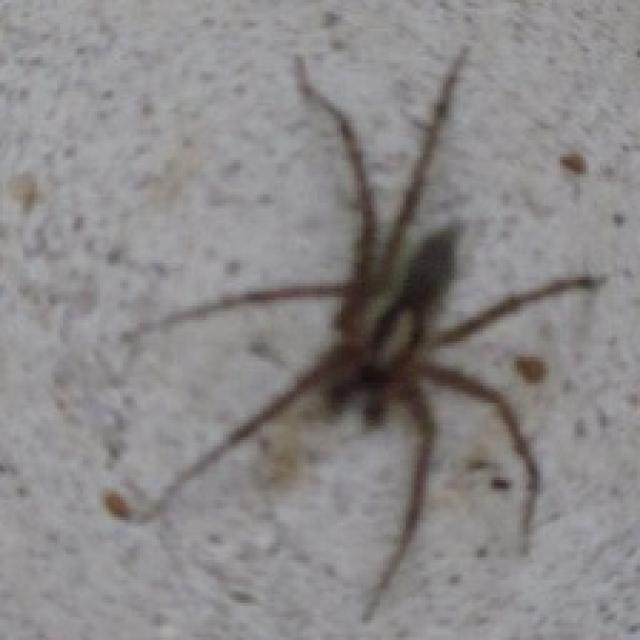Non venomous spider: (83, 24, 598, 612)
